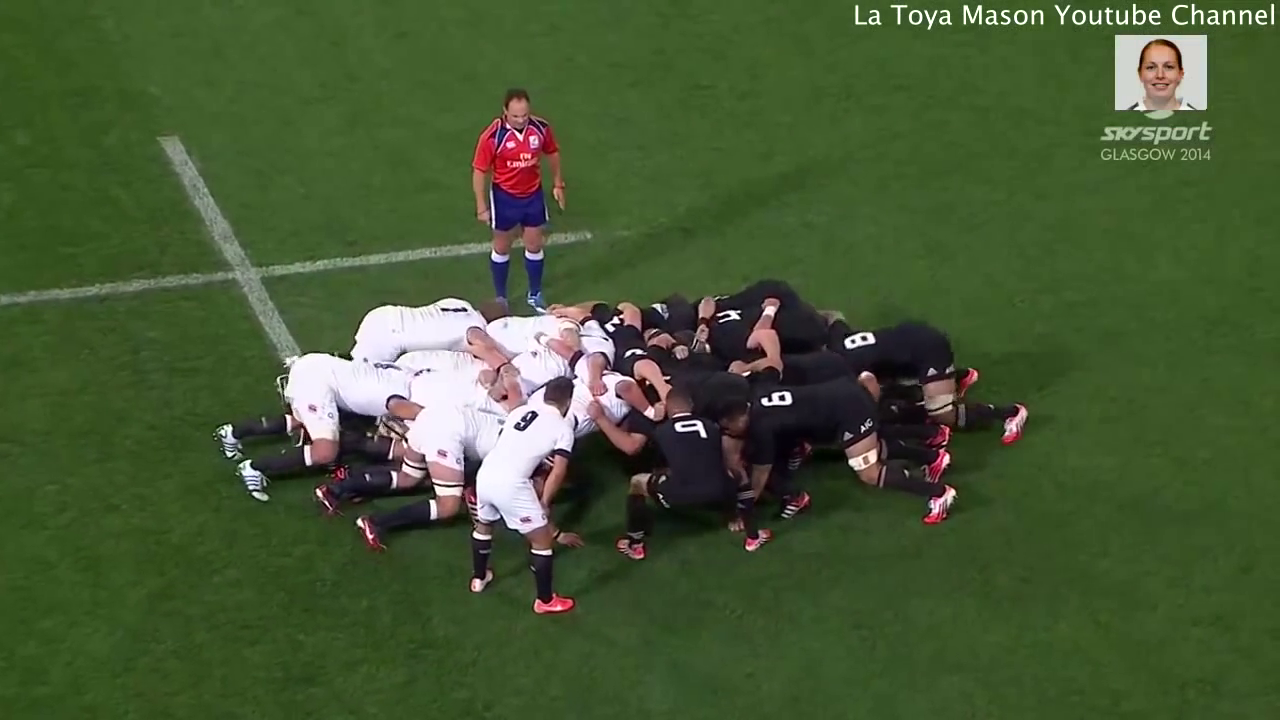player: (717, 381, 959, 524), (588, 389, 773, 547), (469, 374, 578, 614), (827, 319, 1031, 446), (230, 345, 398, 497), (471, 86, 571, 296), (324, 286, 511, 349)
scrum: (208, 252, 1061, 566)
